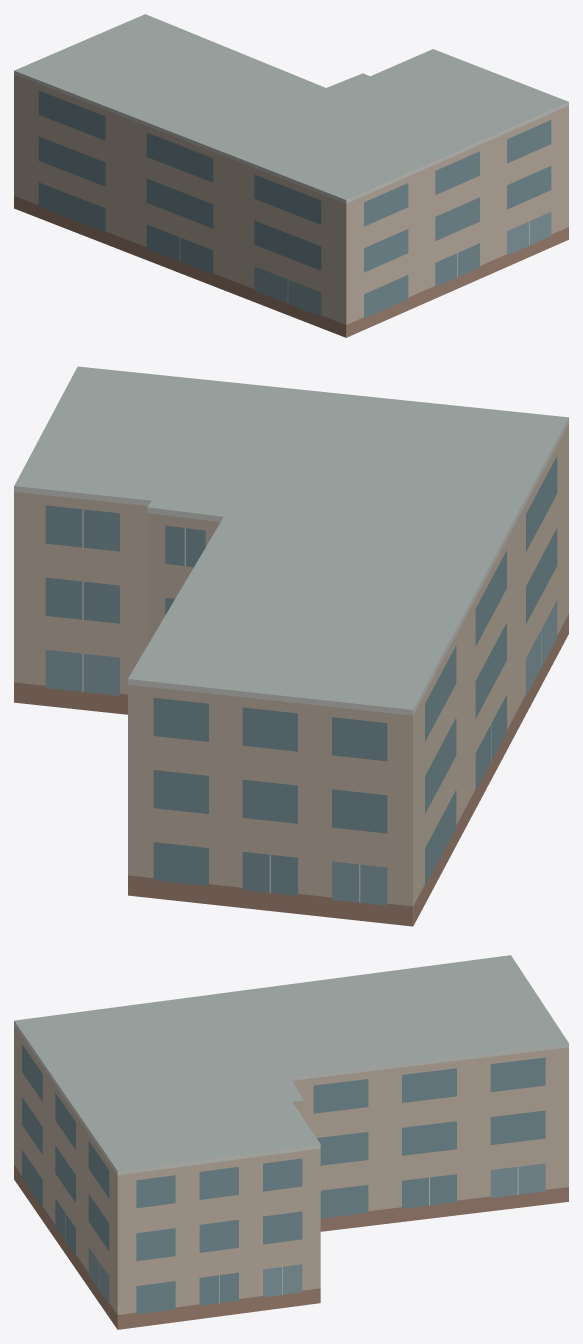
Rendered from survey-upis-32837691.glb.
3 views of the same model, one above another, from view 1: azimuth 30°, elevation 25°; view 2: azimuth 150°, elevation 25°; view 3: azimuth 270°, elevation 25° (orthographic). The views are drawn at different scales.
Parts seen in each view (by area): view 1: survey-upis-32837691.tmp; view 2: survey-upis-32837691.tmp; view 3: survey-upis-32837691.tmp.
Boxes of the visible parts, x1,y1,x2,y2 form: survey-upis-32837691.tmp: [14, 14, 568, 337]; survey-upis-32837691.tmp: [14, 366, 568, 926]; survey-upis-32837691.tmp: [14, 955, 568, 1329].
Bounding box in the file's own units: 26.7 × 9.15 × 28.99.
